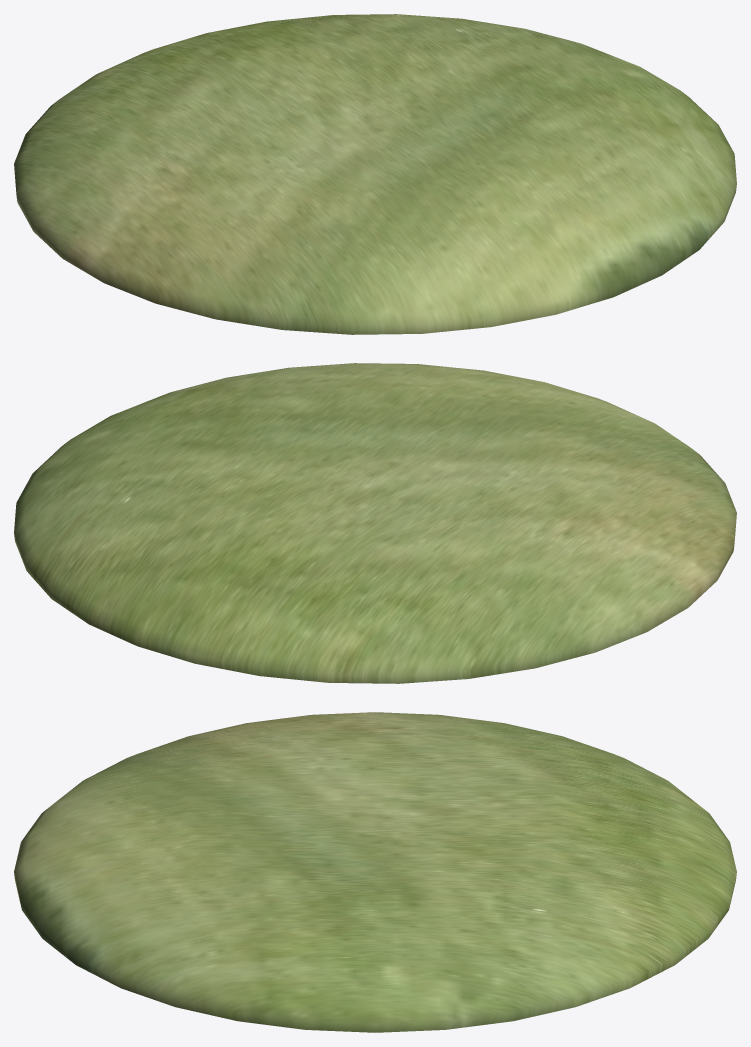
The model's file is platform_small.obj.
3 views of the same model, one above another, from view 1: azimuth 30°, elevation 25°; view 2: azimuth 150°, elevation 25°; view 3: azimuth 270°, elevation 25° (orthographic).
Visible parts, largest first — view 1: Line001; view 2: Line001; view 3: Line001.
Boxes of the visible parts, bbox=[...] form: Line001: bbox=[14, 14, 736, 334]; Line001: bbox=[14, 363, 736, 683]; Line001: bbox=[14, 712, 736, 1032].
Size of the model in its own units: 4.75 by 0.4457 by 4.75.
Materials: 1 (1 with a texture image).
